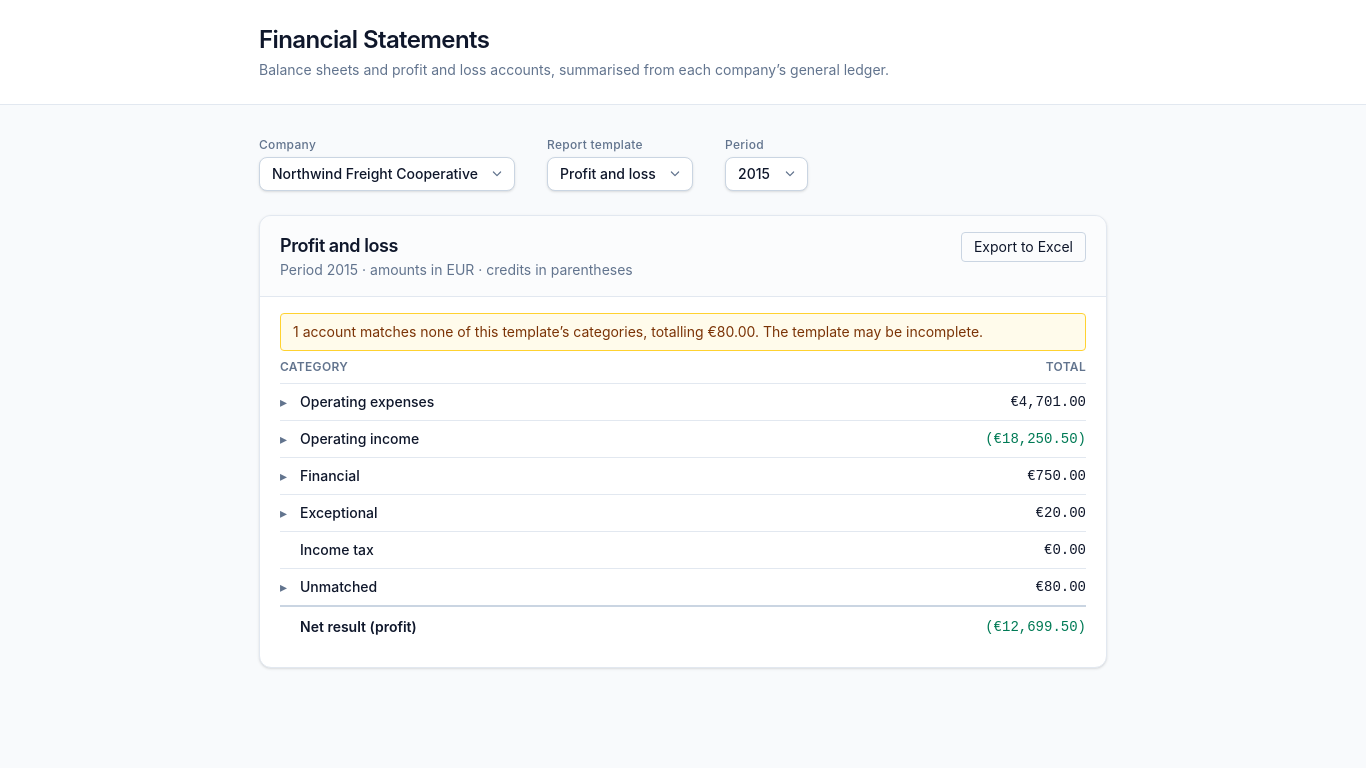
Scenario: the unmatched Accounts can be opened to see which they are
This screenshot has width=1366, height=768.
Click the button "Unmatched" at {"x": 329, "y": 587}, box [280, 577, 377, 597]
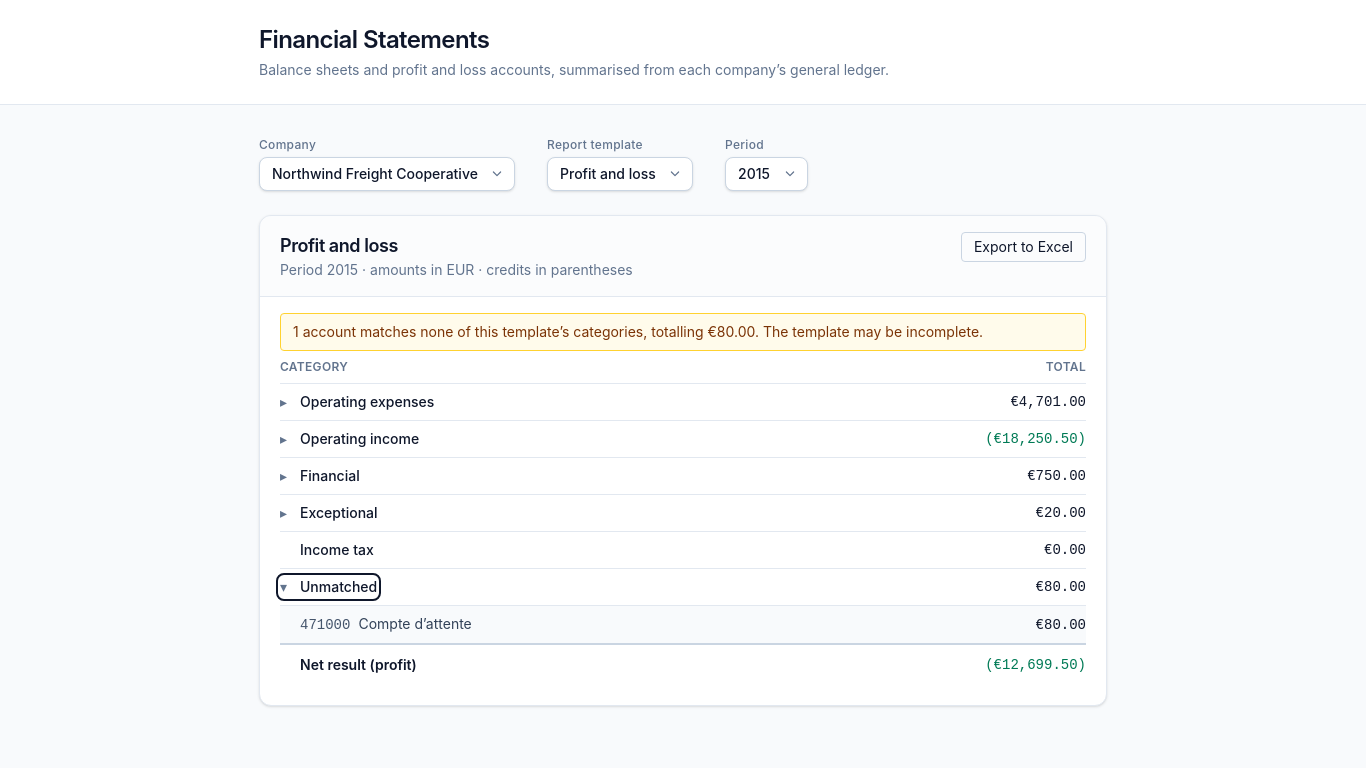
Check: the row "471000Compte d’attente €80.00" is shown, box [280, 606, 1086, 644]
